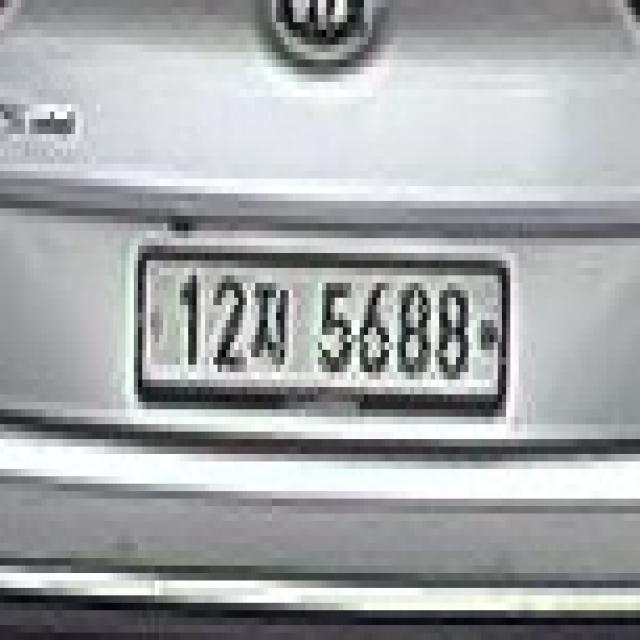1: (171, 260, 205, 380)
2: (209, 260, 247, 380)
5: (314, 276, 351, 380)
6: (351, 268, 389, 379)
8: (431, 268, 473, 387), (393, 283, 431, 387)
jeo: (251, 268, 293, 372)
license_plate: (130, 231, 510, 424)
